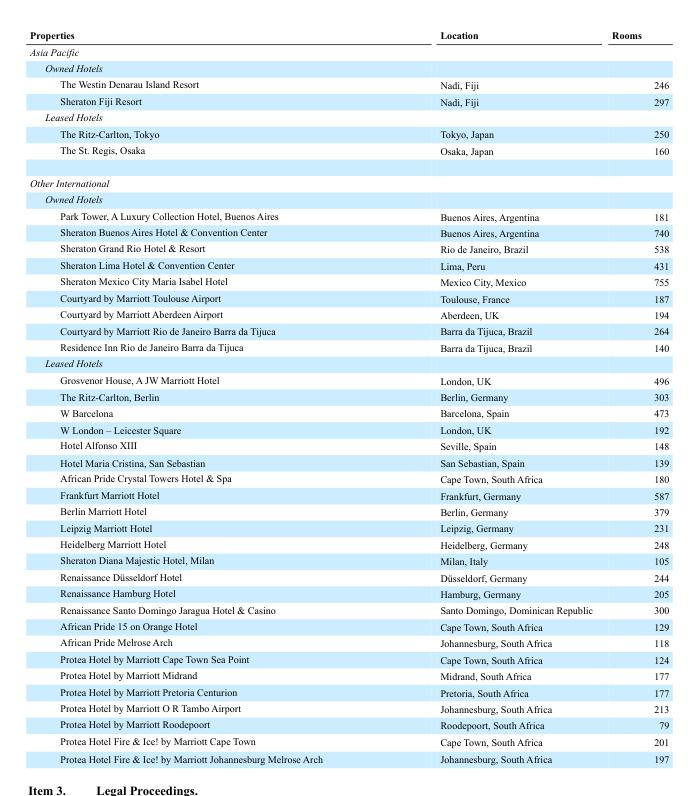table: (29, 28, 668, 764)
table column: (29, 28, 380, 764), (380, 28, 601, 764), (601, 28, 668, 764)
table column header: (29, 28, 668, 42)
table projected row header: (29, 166, 668, 190), (29, 42, 668, 59), (29, 190, 668, 207), (29, 59, 668, 75), (29, 108, 668, 124), (29, 355, 668, 371)
table row: (29, 141, 668, 166), (29, 166, 668, 190), (29, 42, 668, 59), (29, 75, 668, 92), (29, 124, 668, 141), (29, 190, 668, 207), (29, 223, 668, 240), (29, 256, 668, 273), (29, 305, 668, 322), (29, 338, 668, 355), (29, 371, 668, 388), (29, 404, 668, 421), (29, 437, 668, 454), (29, 502, 668, 519), (29, 535, 668, 552), (29, 584, 668, 601), (29, 617, 668, 634), (29, 650, 668, 667), (29, 699, 668, 716), (29, 732, 668, 749), (29, 59, 668, 75), (29, 92, 668, 108), (29, 108, 668, 124), (29, 207, 668, 223), (29, 240, 668, 256), (29, 273, 668, 289), (29, 289, 668, 305), (29, 322, 668, 338), (29, 355, 668, 371), (29, 388, 668, 404), (29, 421, 668, 437), (29, 454, 668, 470), (29, 470, 668, 486), (29, 486, 668, 502), (29, 519, 668, 535), (29, 552, 668, 568), (29, 568, 668, 584), (29, 601, 668, 617), (29, 634, 668, 650), (29, 667, 668, 683), (29, 683, 668, 699), (29, 716, 668, 732), (29, 749, 668, 764), (29, 28, 668, 42)
